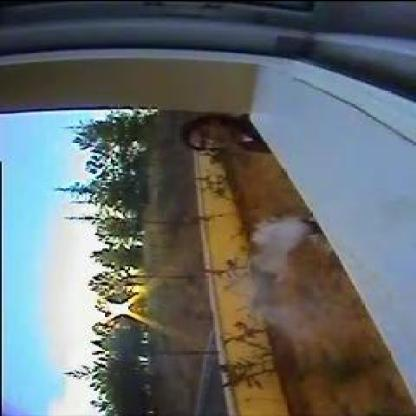-: (252, 219, 304, 274)
